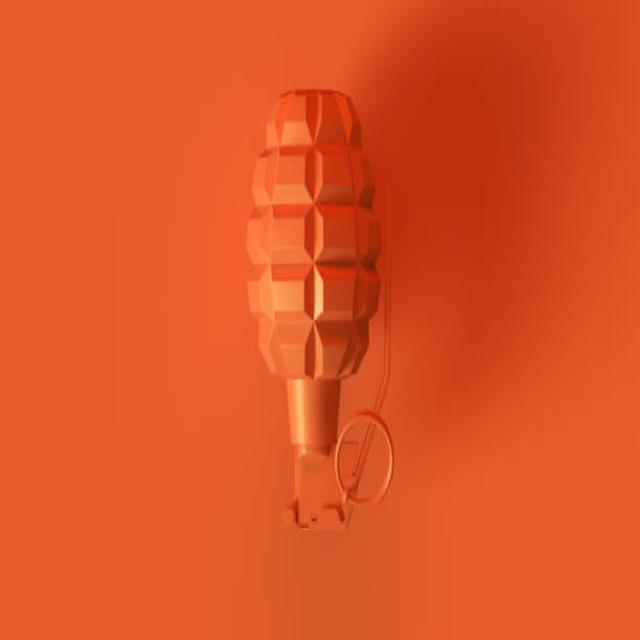grenade: (241, 81, 400, 542)
